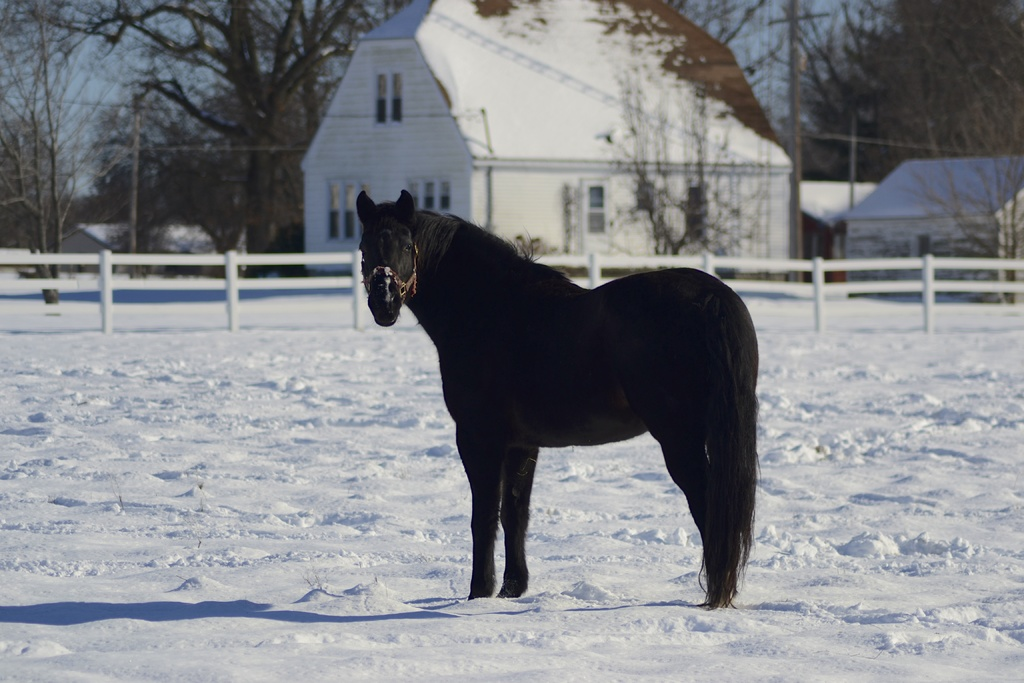horse: (357, 189, 757, 608)
